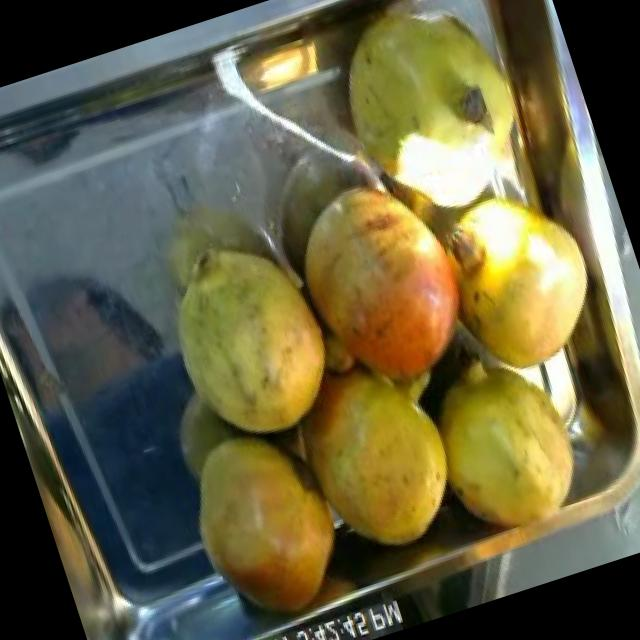fruit: (298, 0, 564, 259), (264, 140, 500, 426), (398, 148, 636, 416), (132, 208, 362, 472), (275, 334, 486, 576), (402, 323, 614, 563), (167, 405, 368, 640)
